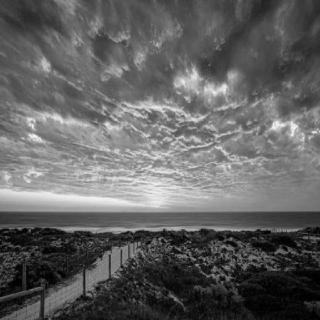other: (50, 54, 278, 144), (112, 147, 194, 209)
